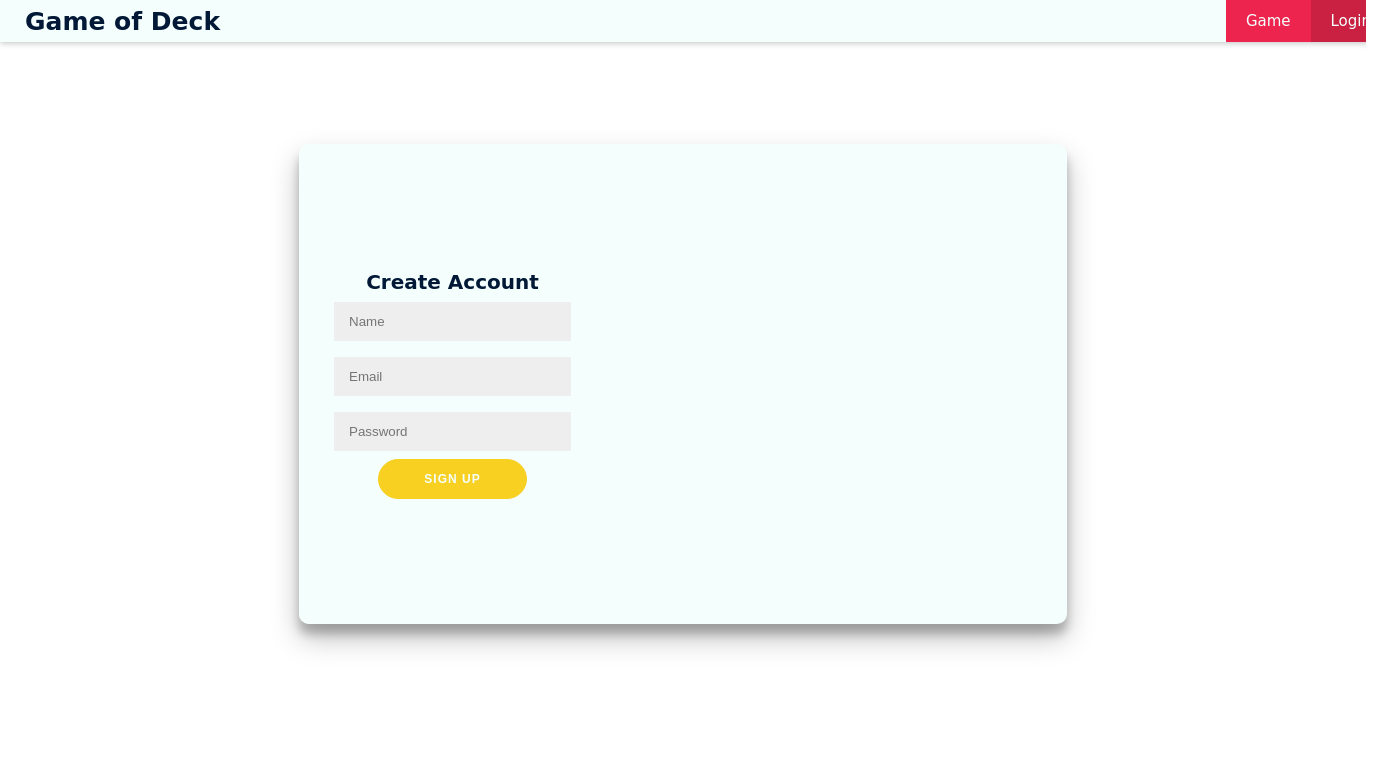
Scenario: Deck Home › load the game page
The image size is (1378, 768).
Click the list item "Game". click: {"x": 1269, "y": 21}
box: [1246,12,1291,30]
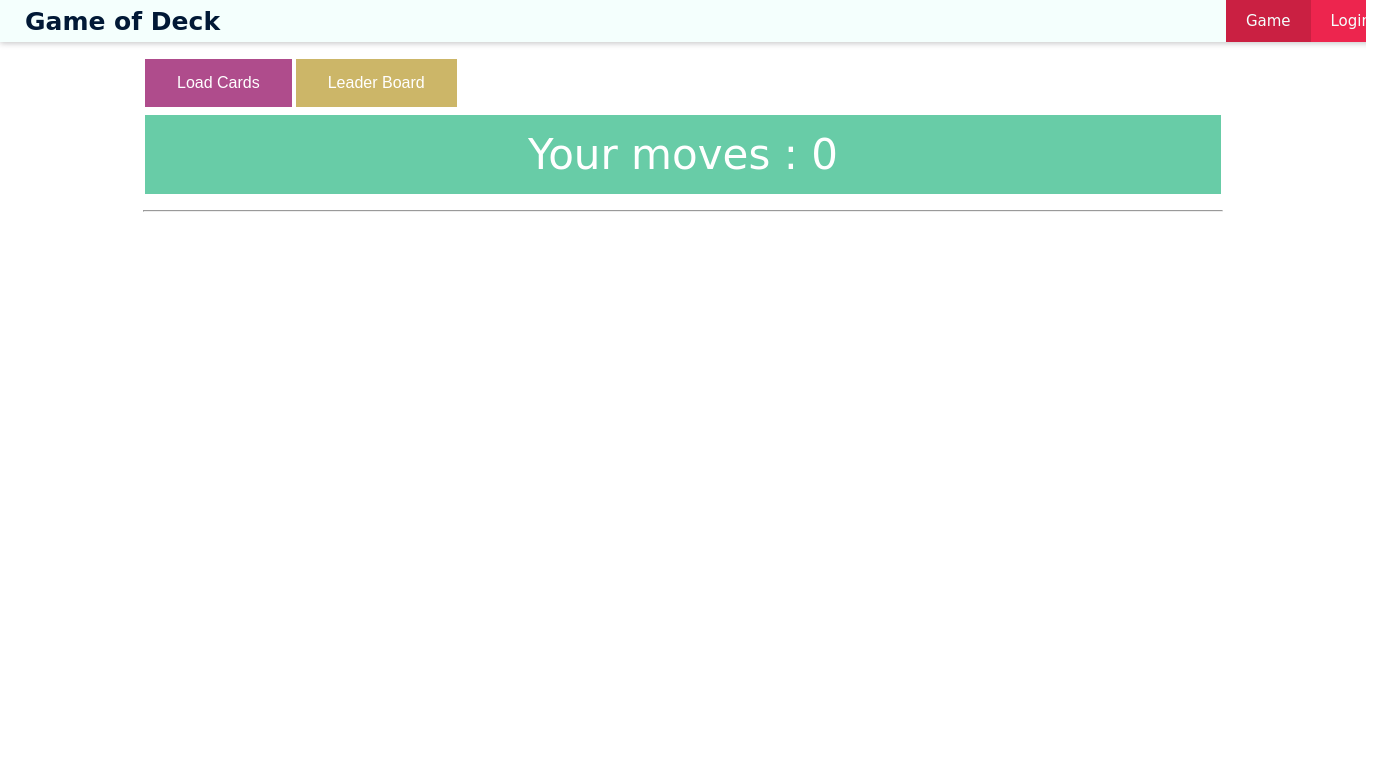
Expected: the button "Load Cards" is shown, [145,59,292,107]
